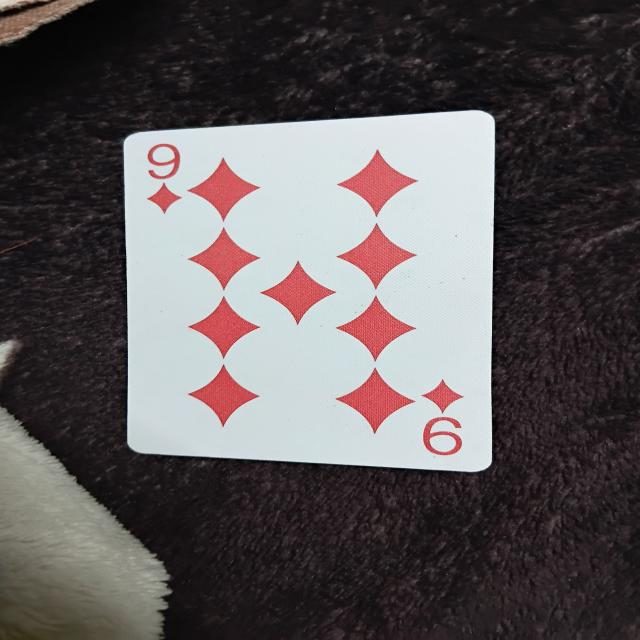9D: (128, 133, 505, 476)
